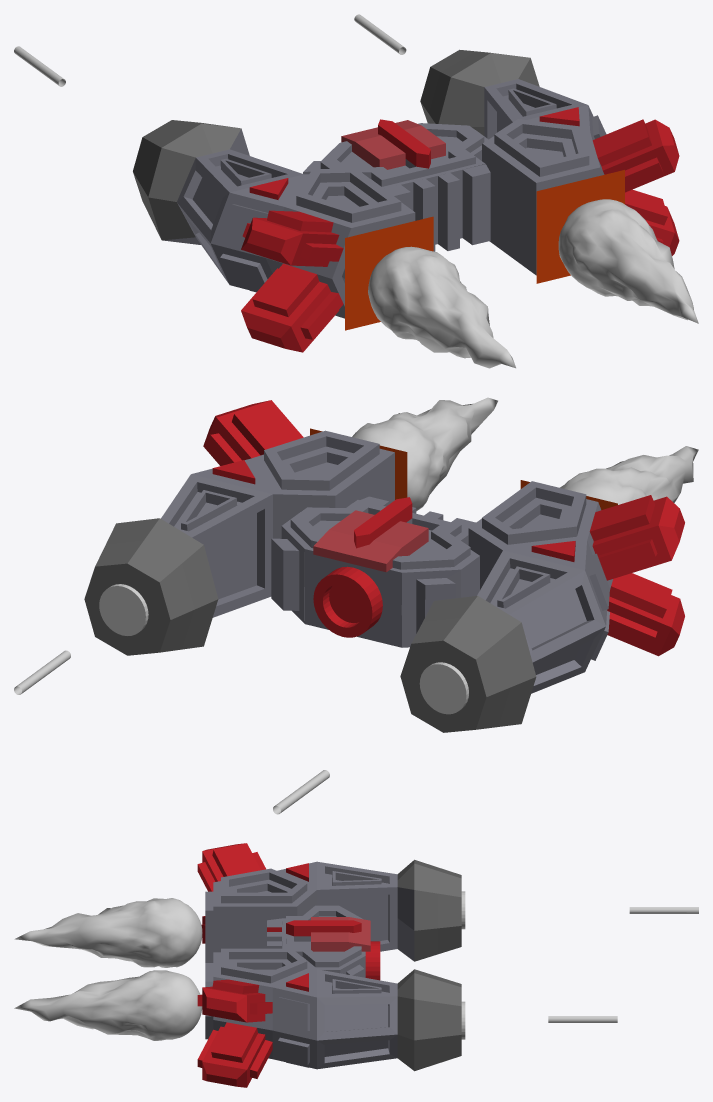
File: enemyship.obj
3 renders of one model, top to bottom at view 1: azimuth 30°, elevation 25°; view 2: azimuth 150°, elevation 25°; view 3: azimuth 270°, elevation 25°, orthographic. The views are drawn at different scales.
Visible parts, largest first — view 1: Left-arm_Cube.004, Right-arm_Cube.006, Body_Cockpit, flame_Icosphere.005, flame.001_Icosphere.003, EmberEmitter_Plane, EmberEmitter.001_Plane.001, Body-helmet_Cube.002, Laser_Circle, Laser2_Circle.001; view 2: Left-arm_Cube.004, Right-arm_Cube.006, Body_Cockpit, flame.001_Icosphere.003, flame_Icosphere.005, Body-camera_Cylinder.001, Body-helmet_Cube.002, Right-arm-cylinder-difference_Cylinder.005, Left-arm-cylinder-difference_Cylinder.003, EmberEmitter.001_Plane.001, Laser2_Circle.001, Laser_Circle; view 3: Right-arm_Cube.006, Left-arm_Cube.004, flame.001_Icosphere.003, flame_Icosphere.005, Body_Cockpit, Body-helmet_Cube.002, Body-camera_Cylinder.001, Laser_Circle, Laser2_Circle.001.
Boxes of the visible parts, x1,y1,x2,y2 form: Left-arm_Cube.004: (133, 120, 415, 352); Right-arm_Cube.006: (420, 49, 679, 275); Body_Cockpit: (303, 119, 490, 251); flame_Icosphere.005: (368, 246, 515, 368); flame.001_Icosphere.003: (558, 199, 698, 323); EmberEmitter_Plane: (345, 216, 433, 330); EmberEmitter.001_Plane.001: (536, 170, 624, 283); Body-helmet_Cube.002: (341, 120, 445, 169); Laser_Circle: (354, 14, 406, 54); Laser2_Circle.001: (14, 46, 65, 86); Left-arm_Cube.004: (400, 481, 684, 732); Right-arm_Cube.006: (84, 400, 394, 655); Body_Cockpit: (271, 496, 479, 647); flame.001_Icosphere.003: (352, 397, 497, 511); flame_Icosphere.005: (560, 446, 698, 504); Body-camera_Cylinder.001: (313, 566, 382, 637); Body-helmet_Cube.002: (313, 510, 428, 572); Right-arm-cylinder-difference_Cylinder.005: (99, 584, 148, 635); Left-arm-cylinder-difference_Cylinder.003: (419, 662, 468, 714); EmberEmitter.001_Plane.001: (310, 428, 407, 499); Laser2_Circle.001: (273, 770, 329, 814); Laser_Circle: (14, 650, 70, 694); Right-arm_Cube.006: (197, 948, 461, 1087); Left-arm_Cube.004: (197, 843, 461, 962); flame.001_Icosphere.003: (14, 970, 202, 1040); flame_Icosphere.005: (14, 898, 202, 967); Body_Cockpit: (267, 905, 365, 977); Body-helmet_Cube.002: (311, 917, 370, 951); Body-camera_Cylinder.001: (365, 941, 380, 980); Laser_Circle: (548, 1016, 617, 1022); Laser2_Circle.001: (629, 907, 698, 913).
Size of the model in its own units: 9.66 by 2.71 by 17.29.
